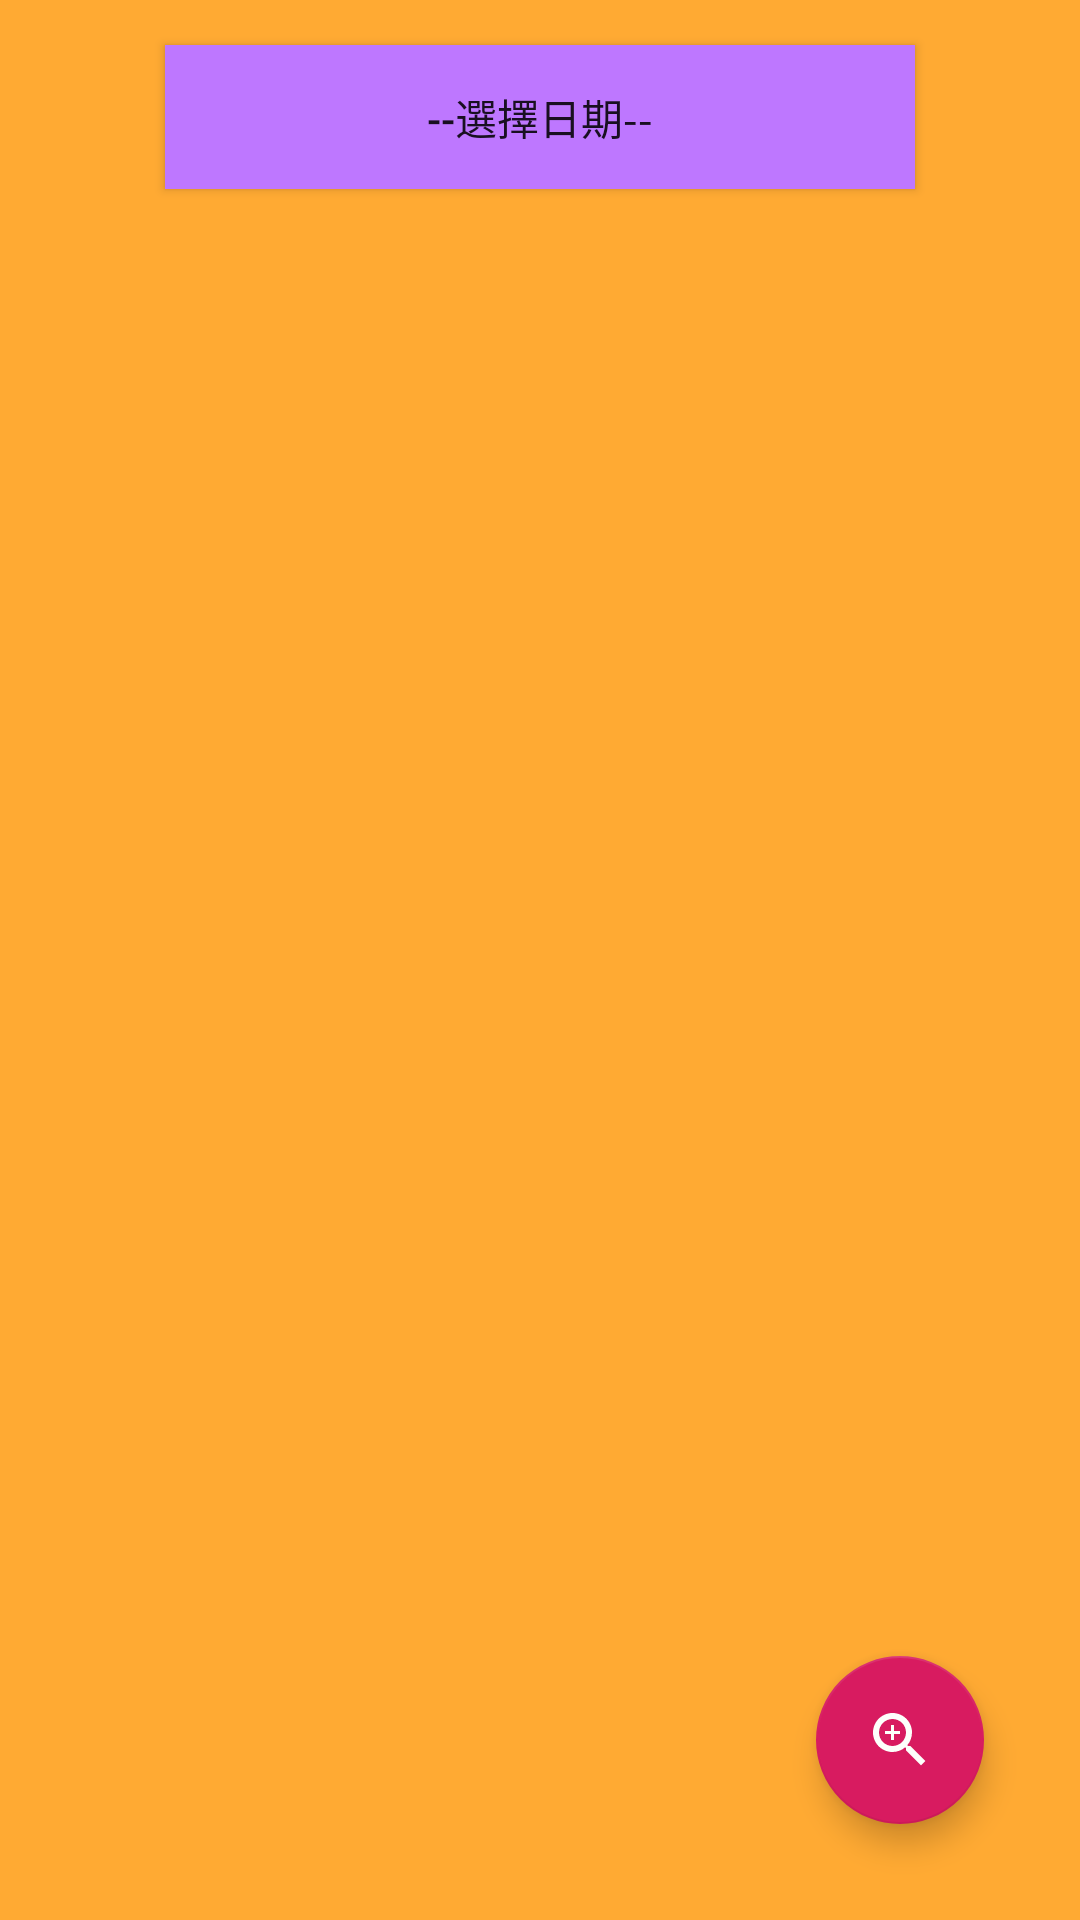

Screen size 1080*1920. Icon name, then its box in pixels as region(x1, y1, x2, y2):
serch: region(816, 1656, 984, 1824)
